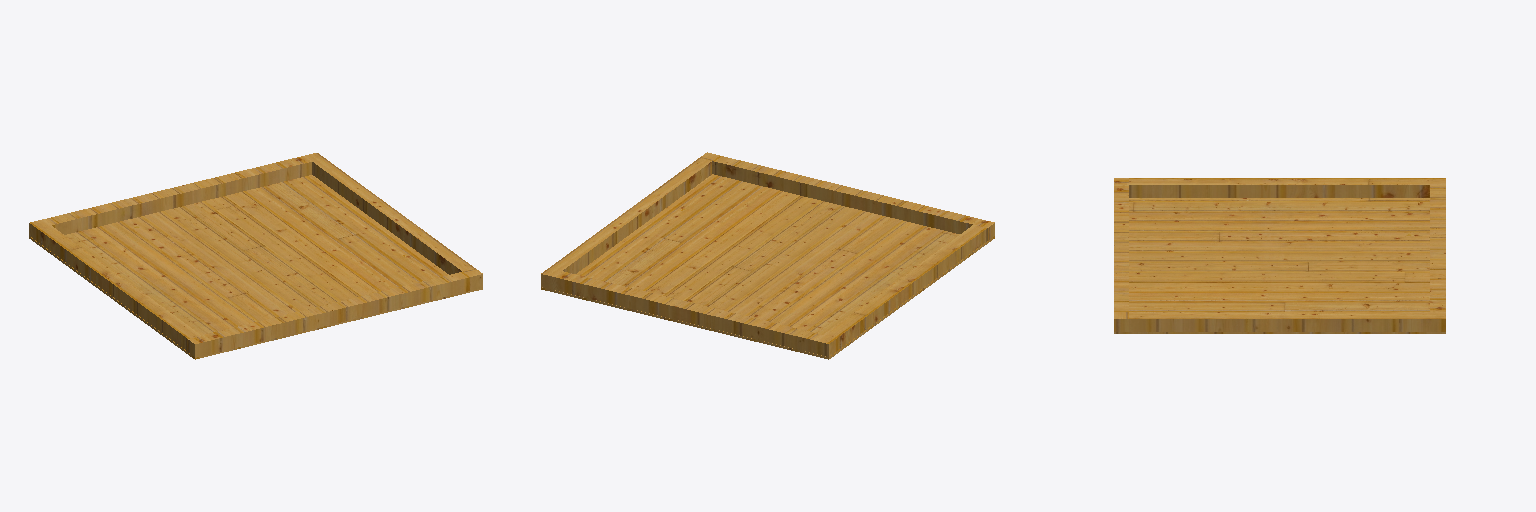
The picture shows the model from 3 angles: view 1: azimuth 30°, elevation 25°; view 2: azimuth 150°, elevation 25°; view 3: azimuth 270°, elevation 25°; orthographic projection.
Visible parts, largest first — view 1: Cube; view 2: Cube; view 3: Cube.
Part boxes in pixels (left/top/right/bottom): Cube: left=29, top=153, right=482, bottom=359; Cube: left=541, top=152, right=994, bottom=359; Cube: left=1114, top=178, right=1445, bottom=333.
Size of the model in its own units: 16.1 by 0.816 by 16.07.
1 materials, 1 textured.